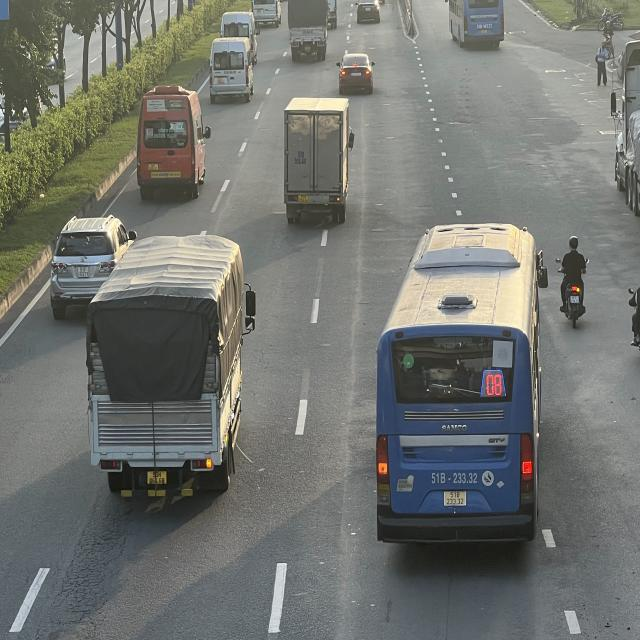car: (49, 213, 130, 315), (337, 53, 375, 96)
coach: (378, 228, 548, 556), (445, 0, 503, 46)
truck: (84, 235, 255, 500), (281, 98, 353, 224), (287, 0, 328, 58)
van: (139, 86, 214, 197), (207, 37, 255, 103)
